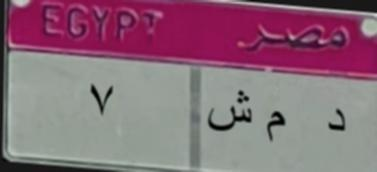7: (82, 81, 123, 123)
daal: (323, 99, 354, 142)
meem: (260, 106, 292, 150)
sheen: (204, 89, 258, 141)
